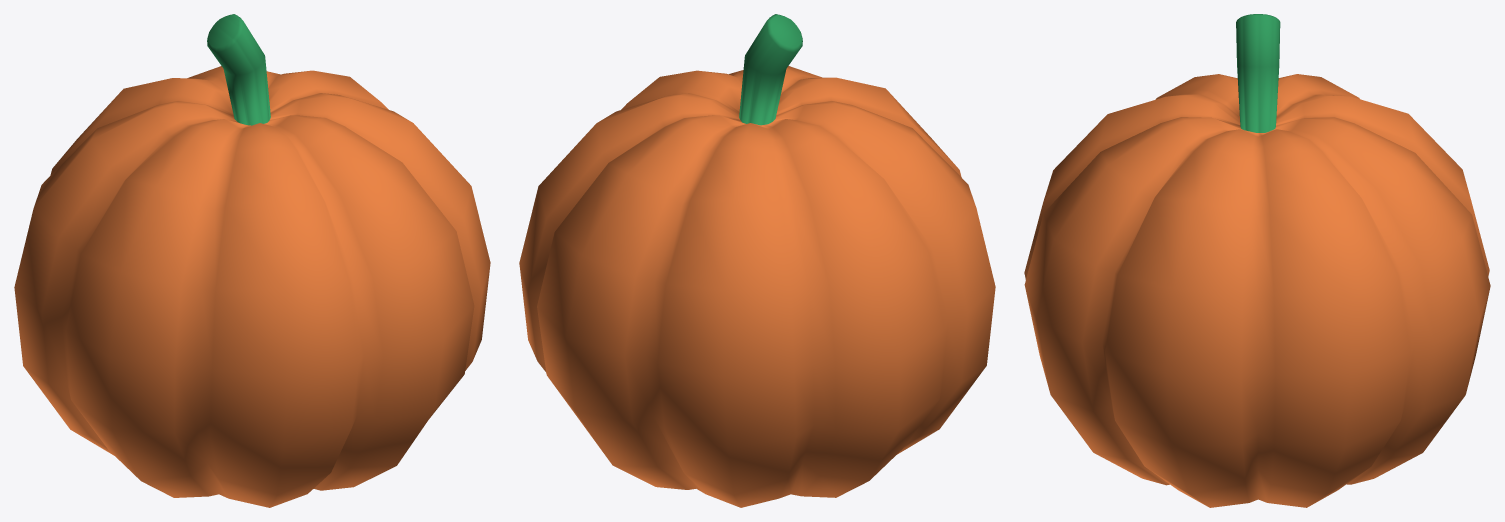
Rendered from pumpkin2.gltf.
3 views of the same model, side by side, from view 1: azimuth 30°, elevation 25°; view 2: azimuth 150°, elevation 25°; view 3: azimuth 270°, elevation 25° (orthographic).
Parts seen in each view (by area): view 1: Sphere; view 2: Sphere; view 3: Sphere.
Part boxes in pixels (left/top/right/bottom): Sphere: left=14, top=14, right=490, bottom=507; Sphere: left=519, top=14, right=995, bottom=507; Sphere: left=1024, top=14, right=1490, bottom=507.
Bounding box in the file's own units: 63.1 × 67.04 × 64.61.
